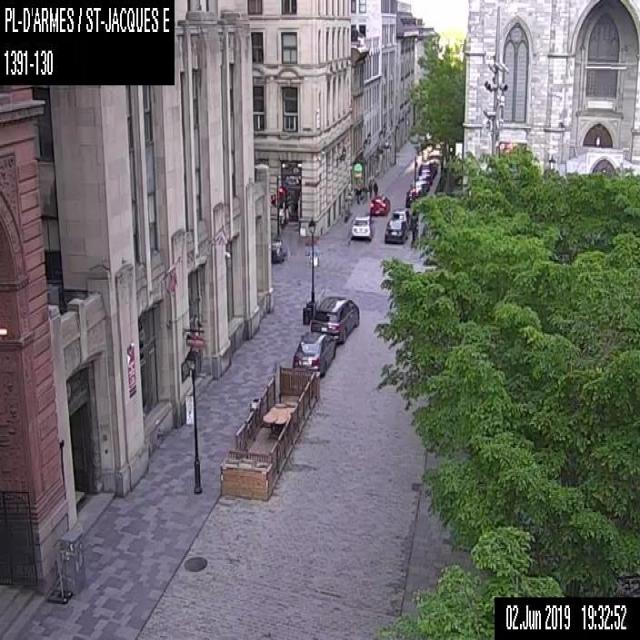pedestrian: (355, 184, 361, 205), (367, 178, 372, 198), (373, 180, 377, 199)
vehicle: (310, 296, 359, 344), (292, 331, 335, 376), (349, 213, 373, 243), (383, 220, 408, 243), (392, 206, 411, 230), (269, 234, 285, 262), (368, 193, 389, 214), (405, 186, 425, 207), (417, 162, 434, 180)
